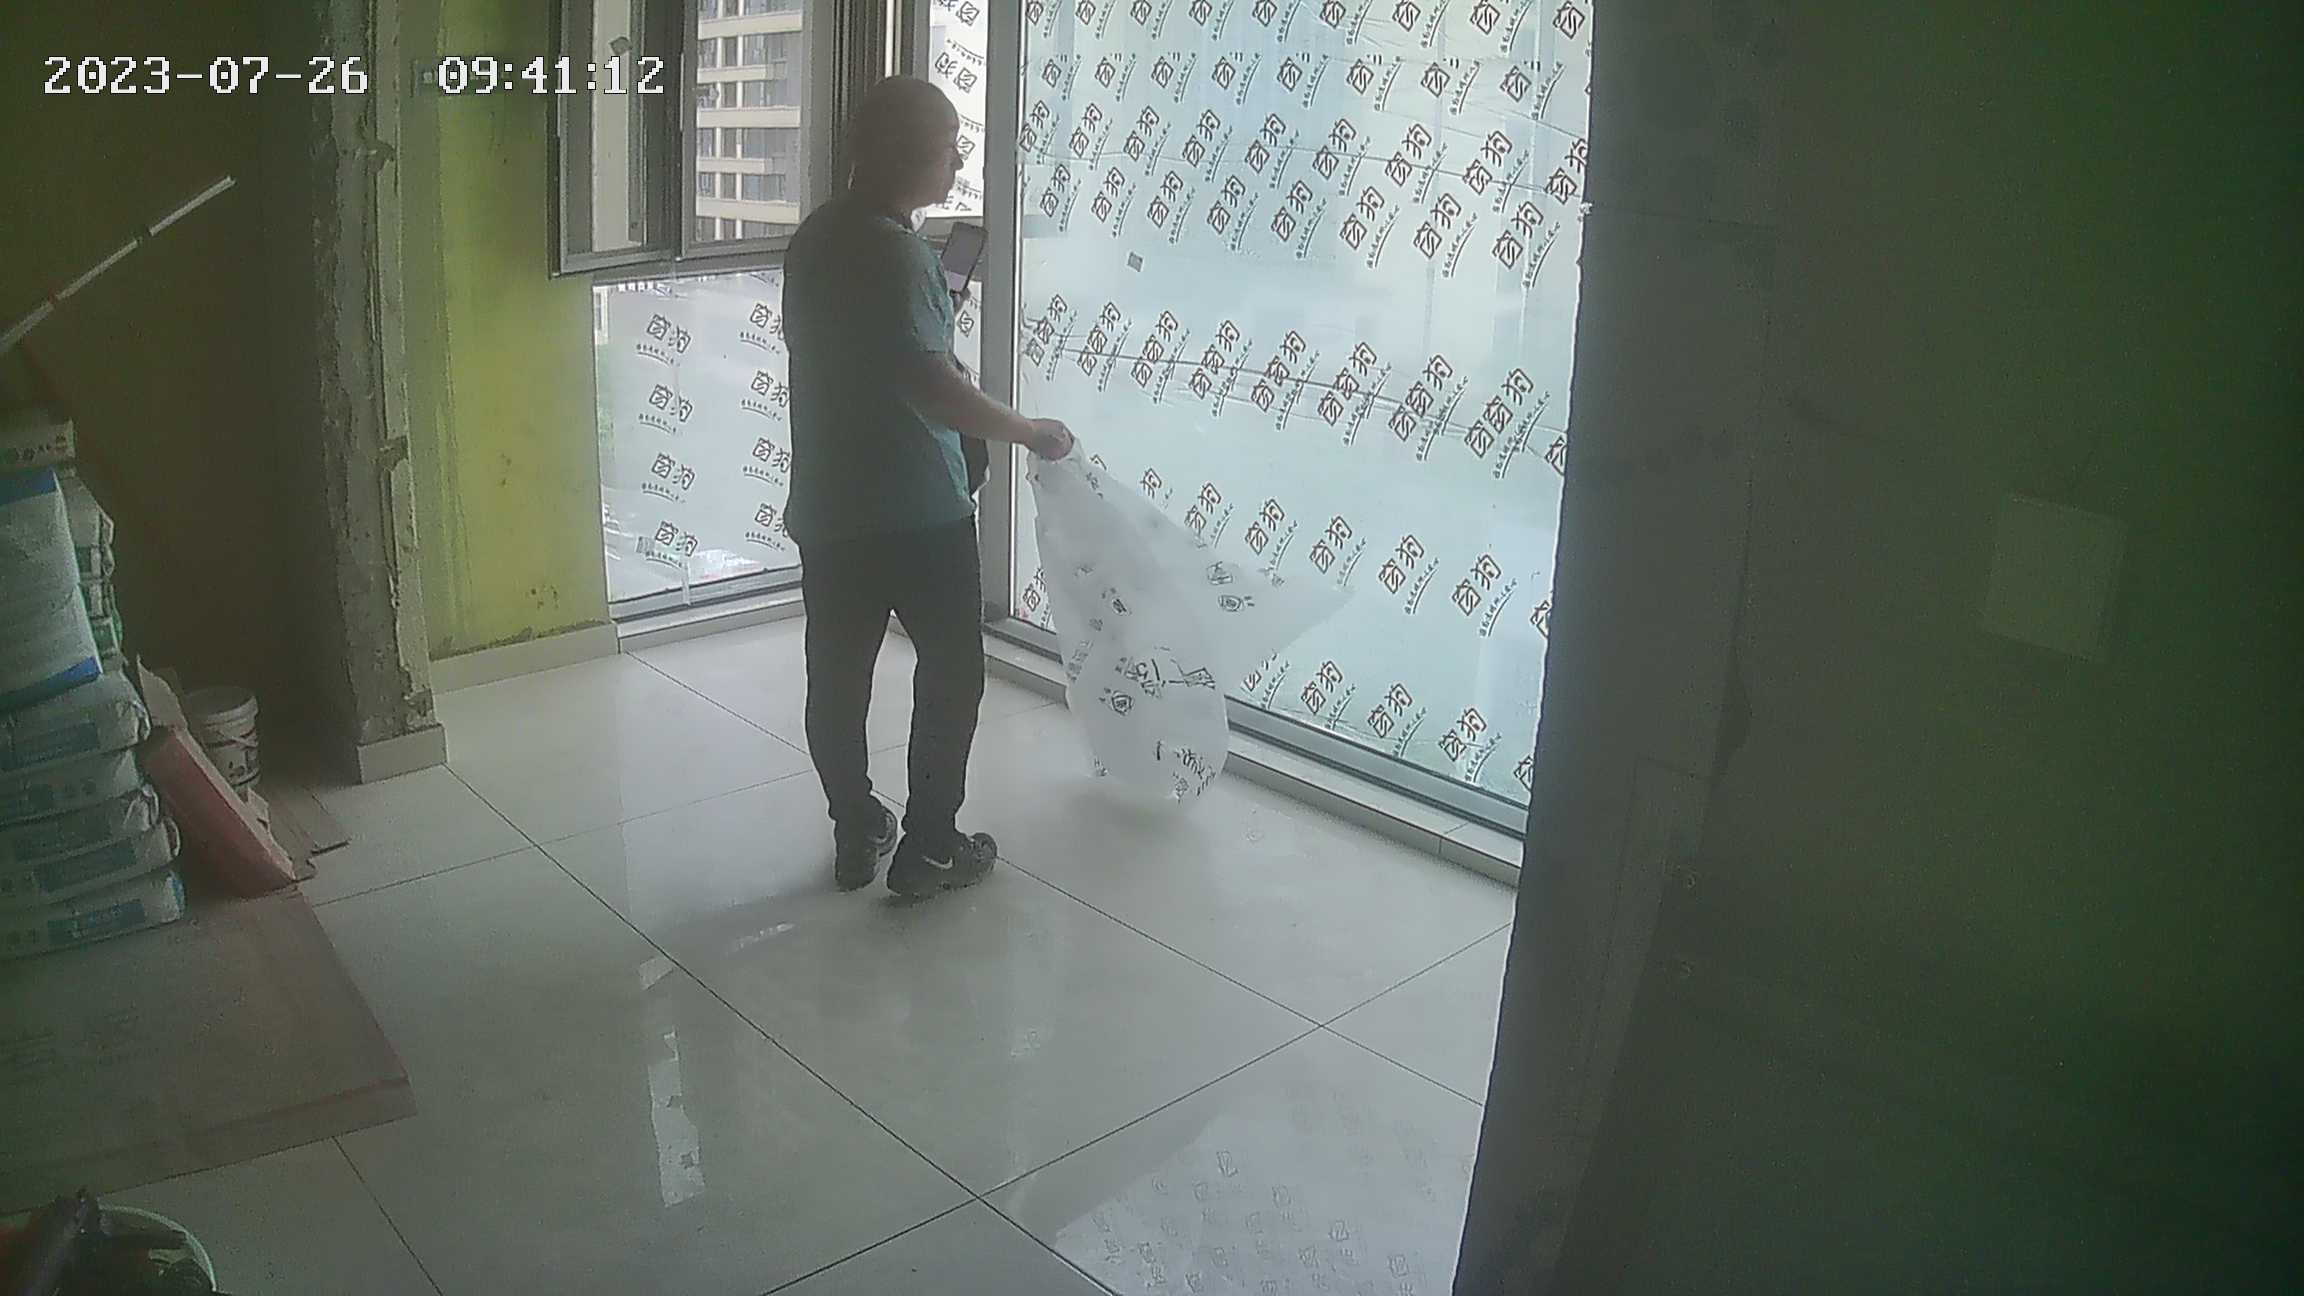people: (772, 80, 1049, 908)
window: (578, 1, 1576, 823)
